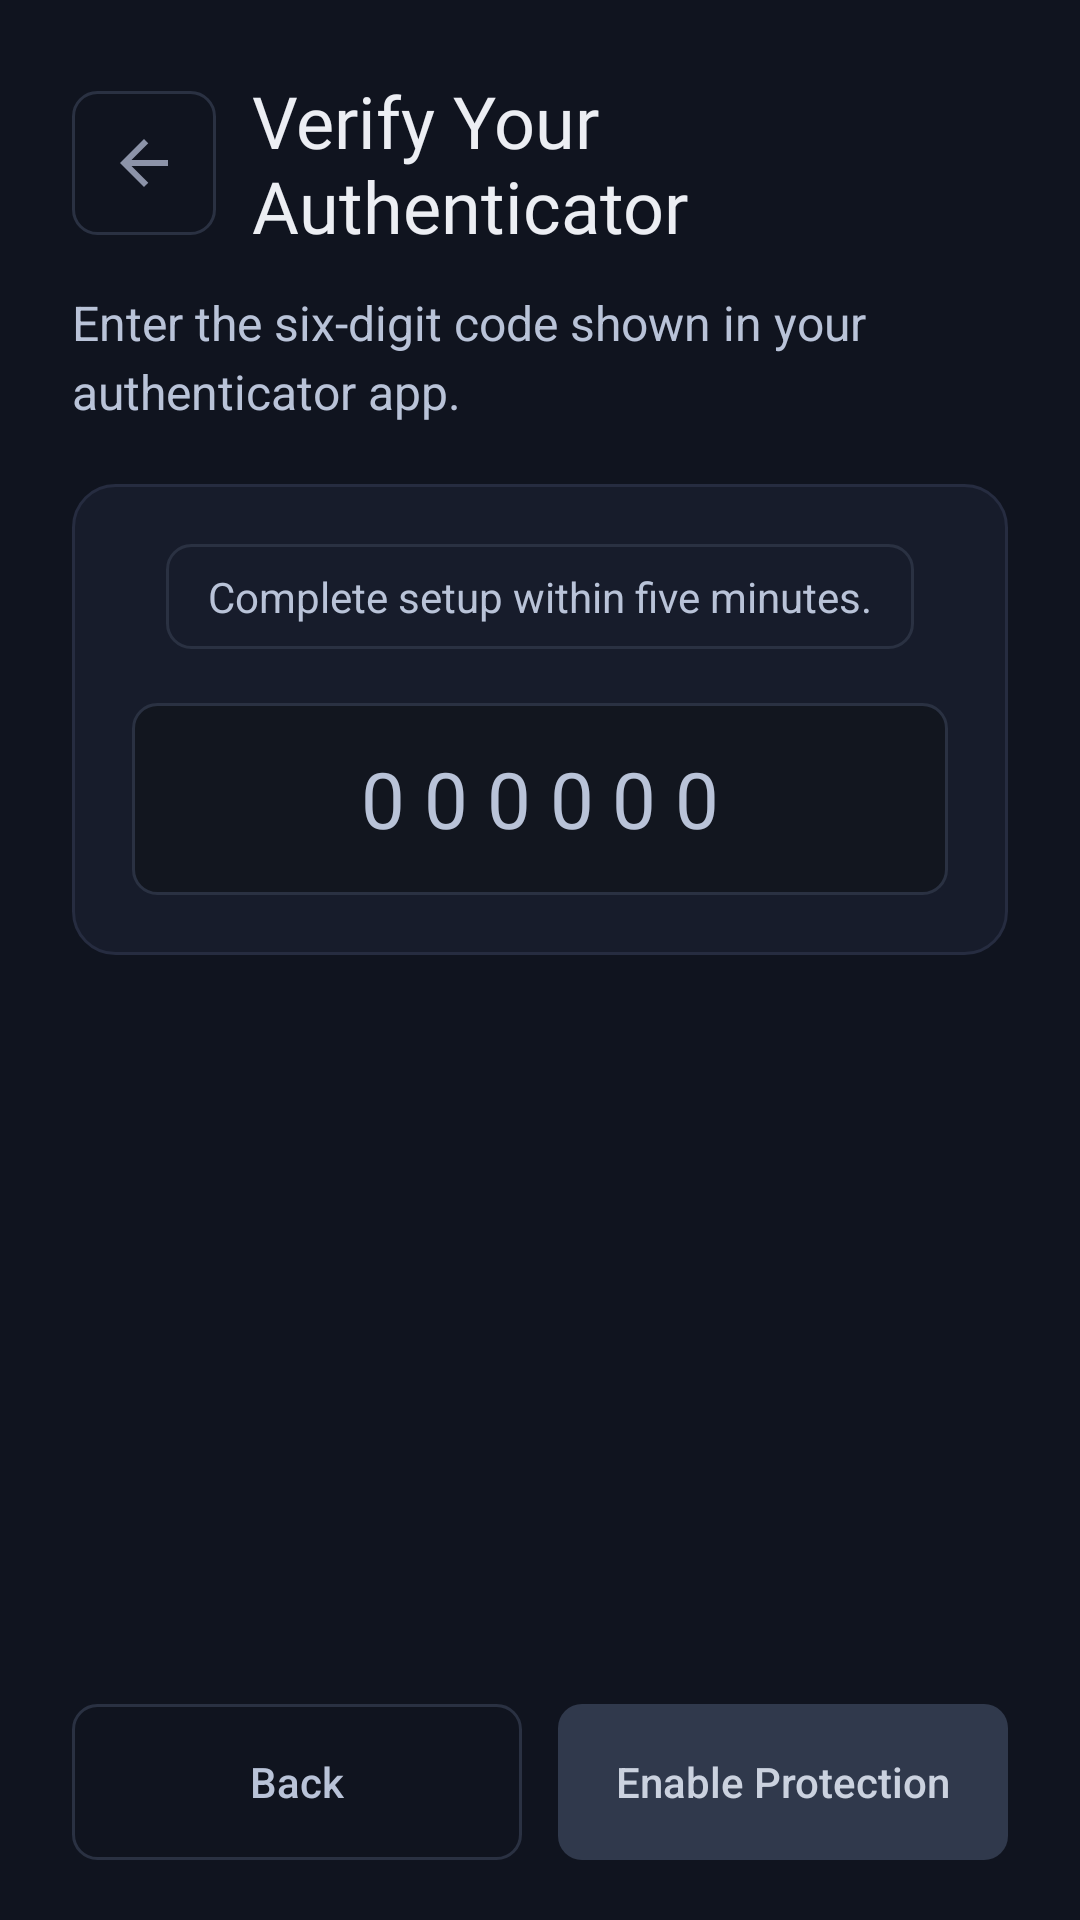

Locate icon controls on the screen. Image size 1080 × 1920, boxes as (x1, y1, x2, y2).
Go back: (72, 91, 216, 235)
